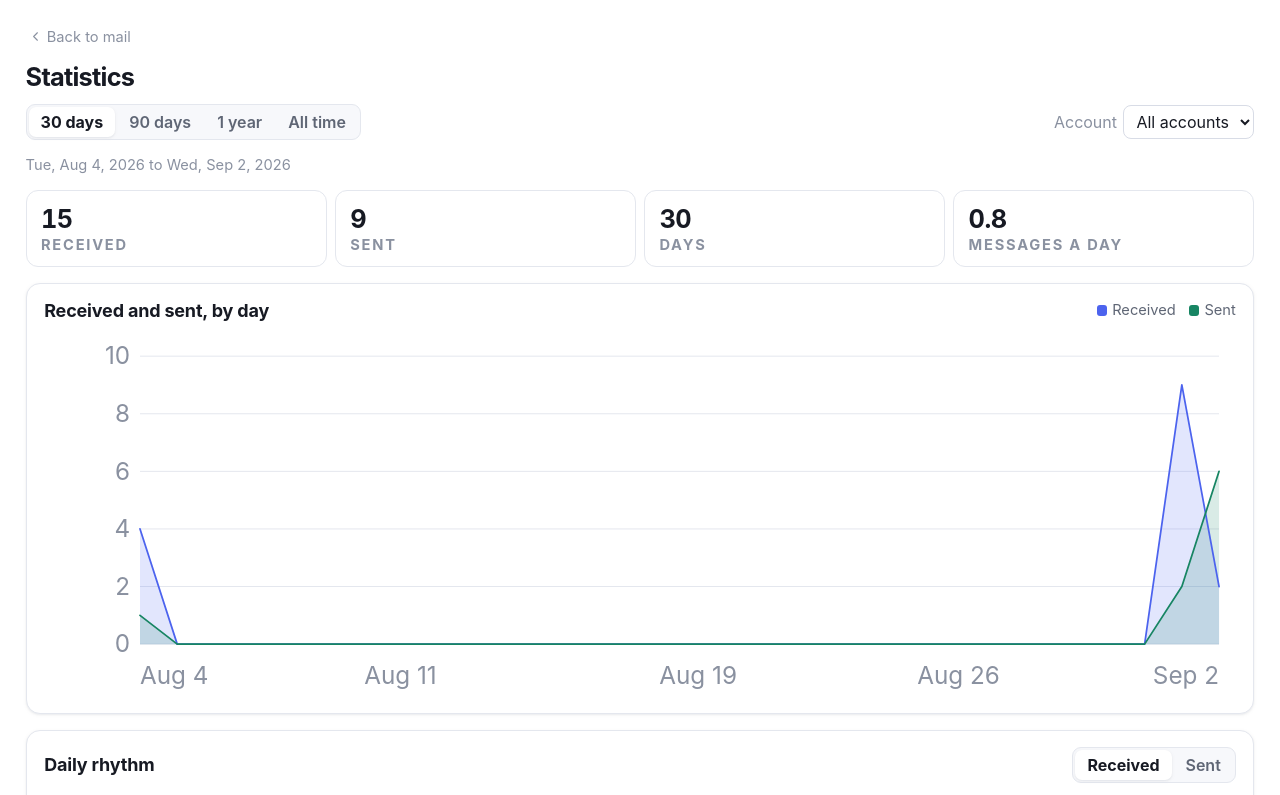
Test: all time asks for no day window at all and says the window is clipped
Check: the picture with test id "stats-volume-chart" is shown, box [44,333,1236,697]
Step 1. Click the button with test id "stats-period-all" → [317, 122], box [276,107,358,137]
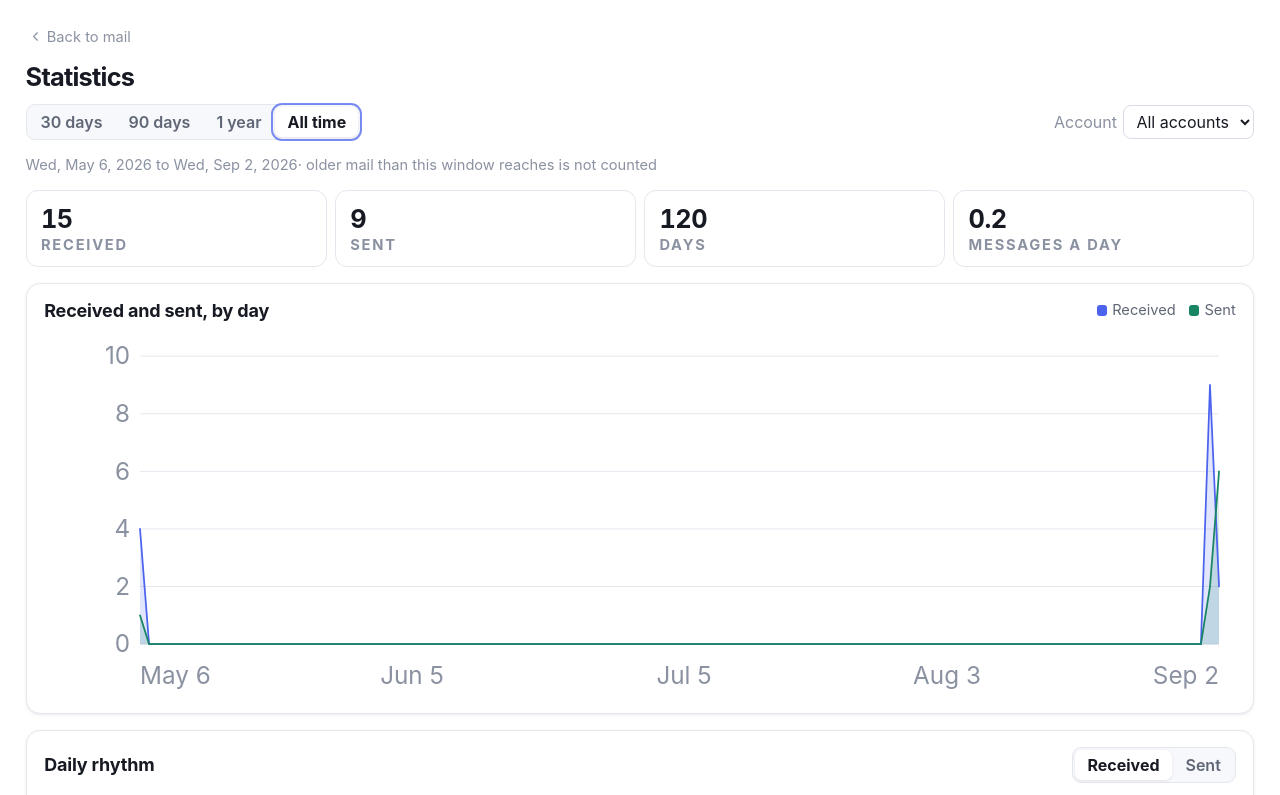
Check: the text with test id "stats-window" shows "is not counted", box [298,156,657,174]
